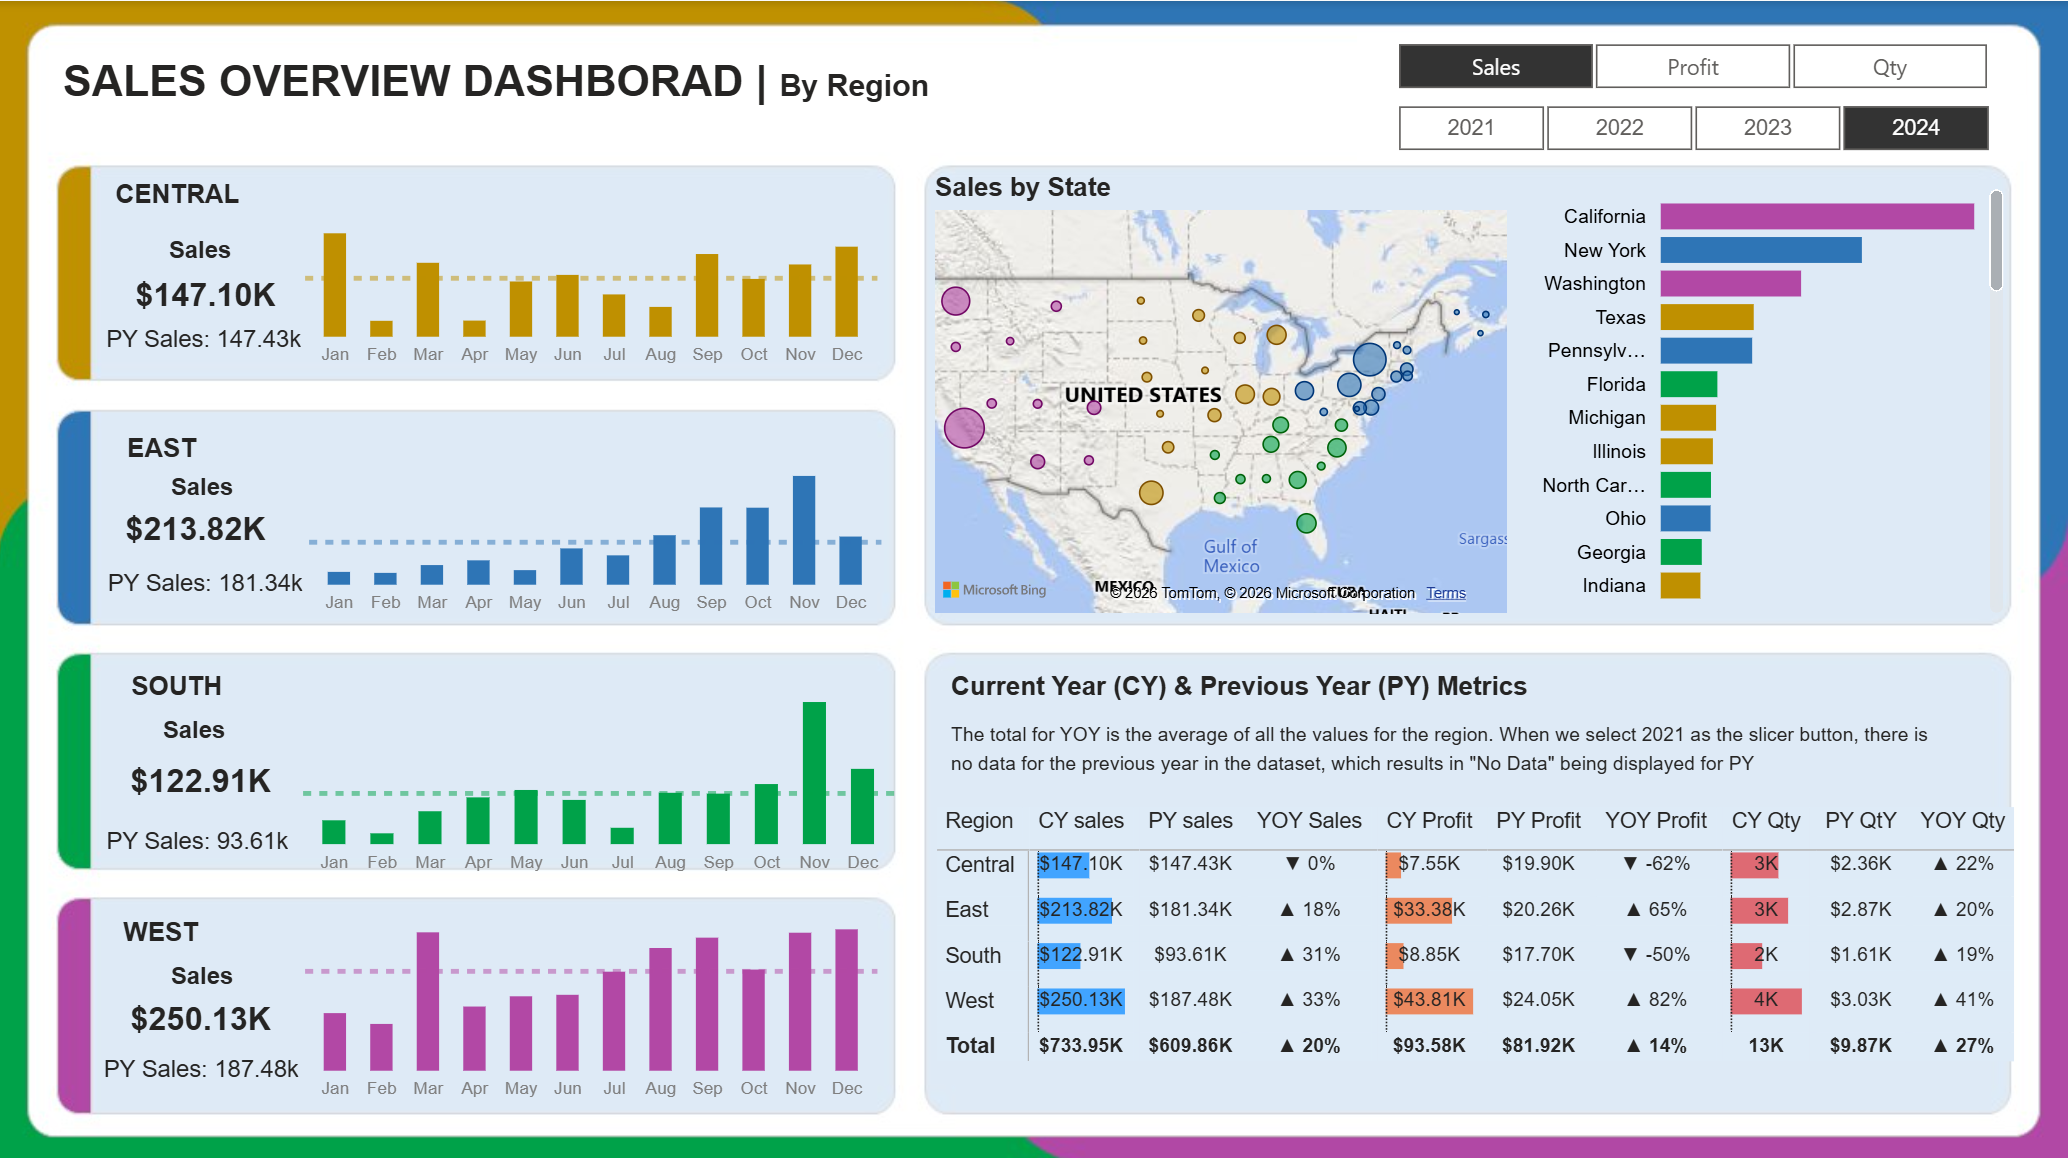

Layout of this report page (visuals, bound fields, positions):
{"tool":"powerbi","page":{"name":"Page 1","canvas":[1280,720],"ordinal":0},"visuals":[{"type":"slicer","fields":{"Values":["Select Metric.Select Metric"]},"box":[840,20,413,38],"z":0},{"type":"cardVisual","fields":{"Data":["Sales Data.Total Sales"]},"box":[54,153,149,55],"z":1000},{"type":"textbox","box":[61.4,105,103.1,33.4],"z":2000},{"type":"textbox","box":[52.5,261,103.3,33.3],"z":2000,"group":"g1"},{"type":"textbox","box":[58.4,408.7,103.3,33.3],"z":2000,"group":"g3"},{"type":"textbox","box":[50,561.1,103.3,33.3],"z":2000,"group":"g2"},{"type":"slicer","fields":{"Values":["Calendar Table.Year"]},"box":[840.2,57.6,414,40.9],"z":3000},{"type":"textbox","box":[18.3,11.7,586.7,66.7],"z":4000},{"type":"cardVisual","fields":{"Data":["Sales Data.Dynamic Title"]},"box":[72.5,274.5,110,47.1],"z":4000,"group":"g1"},{"type":"cardVisual","fields":{"Data":["Sales Data.Dynamic Title"]},"box":[66.7,424.3,110,48.3],"z":4000,"group":"g3"},{"type":"cardVisual","fields":{"Data":["Sales Data.Dynamic Title"]},"box":[71.7,576.6,110,48.3],"z":4000,"group":"g2"},{"type":"cardVisual","fields":{"Data":["Sales Data.Dynamic Title"]},"box":[70,129,110,48],"z":5000},{"type":"cardVisual","fields":{"Data":["Sales Data.PY KPI Sales"]},"box":[32.5,333.3,193.1,50],"z":5000,"group":"g1"},{"type":"cardVisual","fields":{"Data":["Sales Data.PY KPI Sales"]},"box":[26.7,492.6,193.3,50],"z":5000,"group":"g3"},{"type":"cardVisual","fields":{"Data":["Sales Data.PY KPI Sales"]},"box":[30,634.1,193.1,50],"z":5000,"group":"g2"},{"type":"group","id":"g1","title":"Group 1","box":[32.5,257.5,518.8,127.5],"z":6000},{"type":"clusteredColumnChart","fields":{"Y":["Sales Data.Total Sales"],"Category":["Calendar Table.Month"]},"box":[188.3,257.5,363.3,128.3],"z":6000,"group":"g1"},{"type":"clusteredColumnChart","fields":{"Y":["Sales Data.Total Sales"],"Category":["Calendar Table.Month"]},"box":[183.9,414.3,375,131.7],"z":6000,"group":"g3"},{"type":"clusteredColumnChart","fields":{"Y":["Sales Data.Total Sales"],"Category":["Calendar Table.Month"]},"box":[185.8,558.3,363.3,128.3],"z":6000,"group":"g2"},{"type":"cardVisual","fields":{"Data":["Sales Data.Total Sales"]},"box":[48,298,149,55],"z":7000},{"type":"cardVisual","fields":{"Data":["Sales Data.PY KPI Sales"]},"box":[31.7,183.3,191.7,50],"z":8000},{"type":"clusteredColumnChart","fields":{"Y":["Sales Data.Total Sales"],"Category":["Calendar Table.Month"]},"box":[185.8,105.4,363.3,128.3],"z":9000},{"type":"group","id":"g2","title":"Group 1","box":[30,558.3,519.1,128.3],"z":10000},{"type":"cardVisual","fields":{"Data":["Sales Data.Total Sales"]},"box":[51.7,453.3,148.3,55],"z":11000},{"type":"group","id":"g3","title":"Group 1","box":[26.7,408.7,532.2,137.2],"z":12000},{"type":"cardVisual","fields":{"Data":["Sales Data.Total Sales"]},"box":[51.7,600,148.3,55],"z":13000},{"type":"map","fields":{"Size":["Sales Data.Total Sales"],"Series":["Sales Data.Region"],"Category":["Sales Data.State/Province"]},"box":[574.3,105.7,362.9,277.1],"z":14000},{"type":"barChart","fields":{"Y":["Sales Data.Total Sales"],"Category":["Sales Data.State/Province"],"Series":["Sales Data.Region"]},"box":[937.3,103.1,306.4,279.1],"z":15000},{"type":"pivotTable","fields":{"Rows":["Sales Data.Region"],"Values":["Sales Data.CY sales","Sales Data.PY sales","Sales Data.YOY Sales","Sales Data.CY Profit","Sales Data.PY Profit","Sales Data.YOY Profit","Sales Data.CY Qty","Sales Data.PY QtY","Sales Data.YOY Qty"]},"box":[575,492.5,678.8,191.2],"z":16000},{"type":"textbox","box":[583.8,408.8,403.8,28.8],"z":17000},{"type":"textbox","box":[583.8,437.5,622.5,53.8],"z":18000}]}

Visuals, with their boxes in screenshot pixels (x1, y1, x2, y2), scaled from the page's 1280x720 canvas onto the 2068x1158 screenshot:
slicer - Select Metric.Select Metric: 1357:32:2024:93
cardVisual - Sales Data.Total Sales: 87:246:328:335
textbox: 99:169:266:223
textbox: 85:420:252:473
textbox: 94:657:261:711
textbox: 81:902:248:956
slicer - Calendar Table.Year: 1357:93:2026:158
textbox: 30:19:977:126
cardVisual - Sales Data.Dynamic Title: 117:441:295:517
cardVisual - Sales Data.Dynamic Title: 108:682:285:760
cardVisual - Sales Data.Dynamic Title: 116:927:294:1005
cardVisual - Sales Data.Dynamic Title: 113:207:291:285
cardVisual - Sales Data.PY KPI Sales: 53:536:364:616
cardVisual - Sales Data.PY KPI Sales: 43:792:355:873
cardVisual - Sales Data.PY KPI Sales: 48:1020:360:1100
"Group 1" group: 53:414:891:619
clusteredColumnChart - Sales Data.Total Sales x Calendar Table.Month: 304:414:891:620
clusteredColumnChart - Sales Data.Total Sales x Calendar Table.Month: 297:666:903:878
clusteredColumnChart - Sales Data.Total Sales x Calendar Table.Month: 300:898:887:1104
cardVisual - Sales Data.Total Sales: 78:479:318:568
cardVisual - Sales Data.PY KPI Sales: 51:295:361:375
clusteredColumnChart - Sales Data.Total Sales x Calendar Table.Month: 300:170:887:376
"Group 1" group: 48:898:887:1104
cardVisual - Sales Data.Total Sales: 84:729:323:818
"Group 1" group: 43:657:903:878
cardVisual - Sales Data.Total Sales: 84:965:323:1053
map - Sales Data.Total Sales x Sales Data.Region: 928:170:1514:616
barChart - Sales Data.Total Sales x Sales Data.State/Province: 1514:166:2009:615
pivotTable - Sales Data.Region x Sales Data.CY sales: 929:792:2026:1100
textbox: 943:657:1596:704
textbox: 943:704:1949:790
